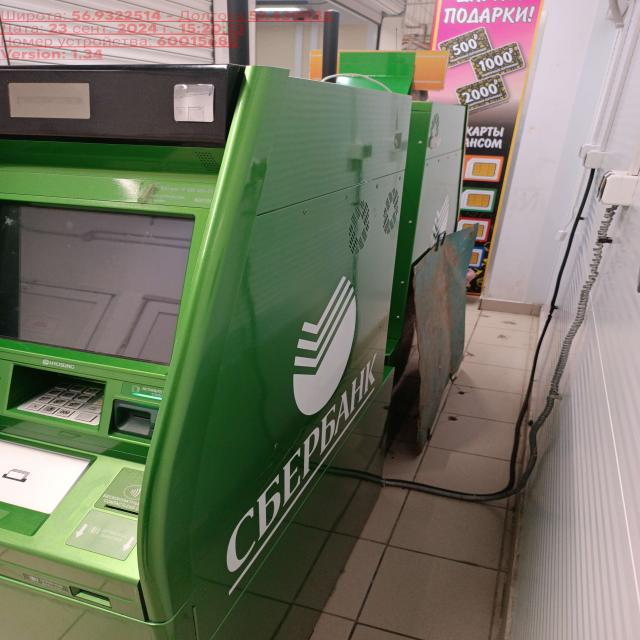bank: (0, 63, 390, 640), (389, 106, 473, 439)
